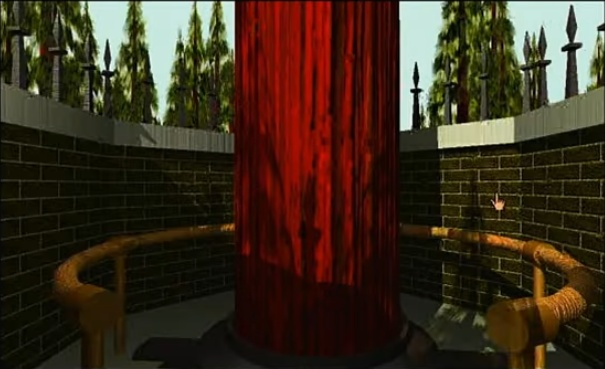Pointer: (488, 191, 509, 212)
